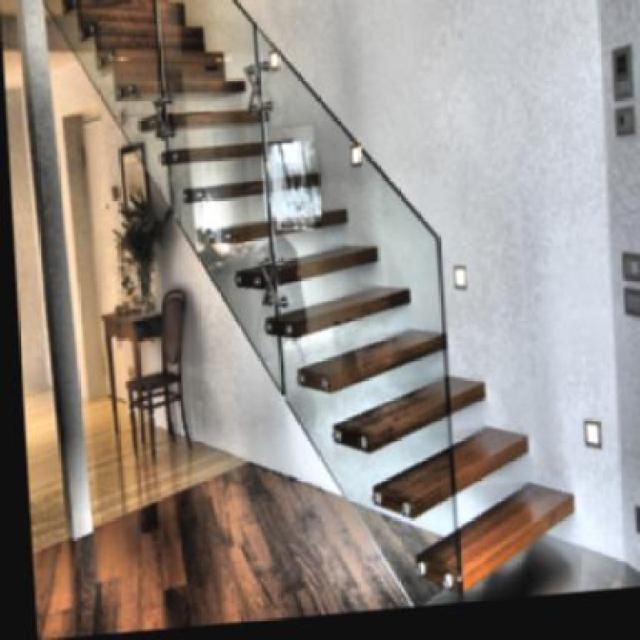stair: (191, 66, 574, 545)
